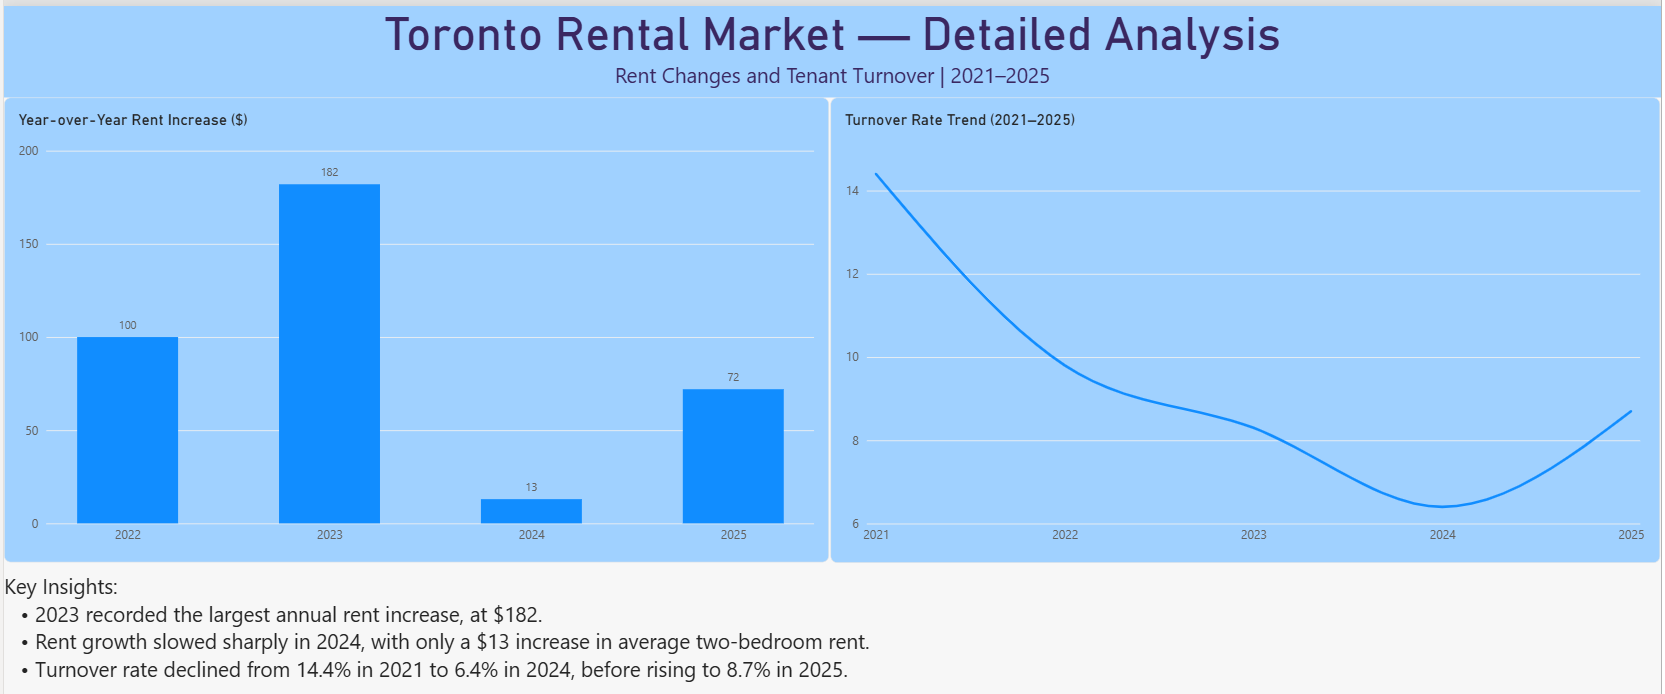

Layout of this report page (visuals, bound fields, positions):
{"tool":"powerbi","page":{"name":"Page 1","canvas":[1920,1080],"ordinal":1},"visuals":[{"type":"columnChart","title":"Year-over-Year Rent Increase ($)","fields":{"Category":["toronto_rental rental_market_analysis.year"],"Y":["Sum(toronto_rental rental_market_analysis.rent_increase)"]},"box":[0,105.9,956,538.8],"z":1001},{"type":"lineChart","title":"Turnover Rate Trend (2021–2025)","fields":{"Category":["toronto_rental rental_market_analysis.year"],"Y":["Sum(toronto_rental rental_market_analysis.turnover_rate)"]},"box":[958.2,105.9,961,539],"z":1002},{"type":"textbox","title":"Toronto Rental Market — Detailed Analysis","box":[0,0,1920,105.9],"z":1004},{"type":"textbox","box":[0,655,1920,177.6],"z":1005}]}

Visuals, with their boxes on the page's 1920x1080 design canvas (x1, y1, x2, y2). These are canvas units, not pixel positions in the 1665x694 screenshot, which may show the page scaled, cropped or inside an application window:
"Year-over-Year Rent Increase ($)" columnChart: (x1=0, y1=106, x2=956, y2=645)
"Turnover Rate Trend (2021–2025)" lineChart: (x1=958, y1=106, x2=1919, y2=645)
"Toronto Rental Market — Detailed Analysis" textbox: (x1=0, y1=0, x2=1920, y2=106)
textbox: (x1=0, y1=655, x2=1920, y2=833)
